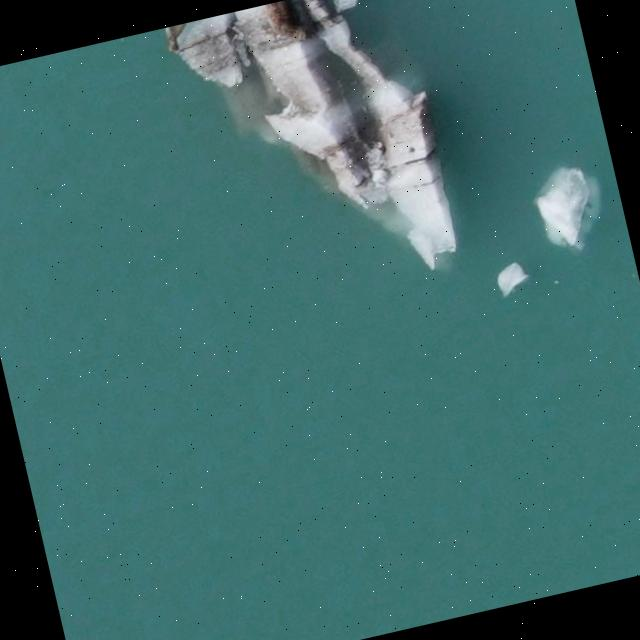seal: (265, 0, 309, 41), (167, 23, 186, 51)
